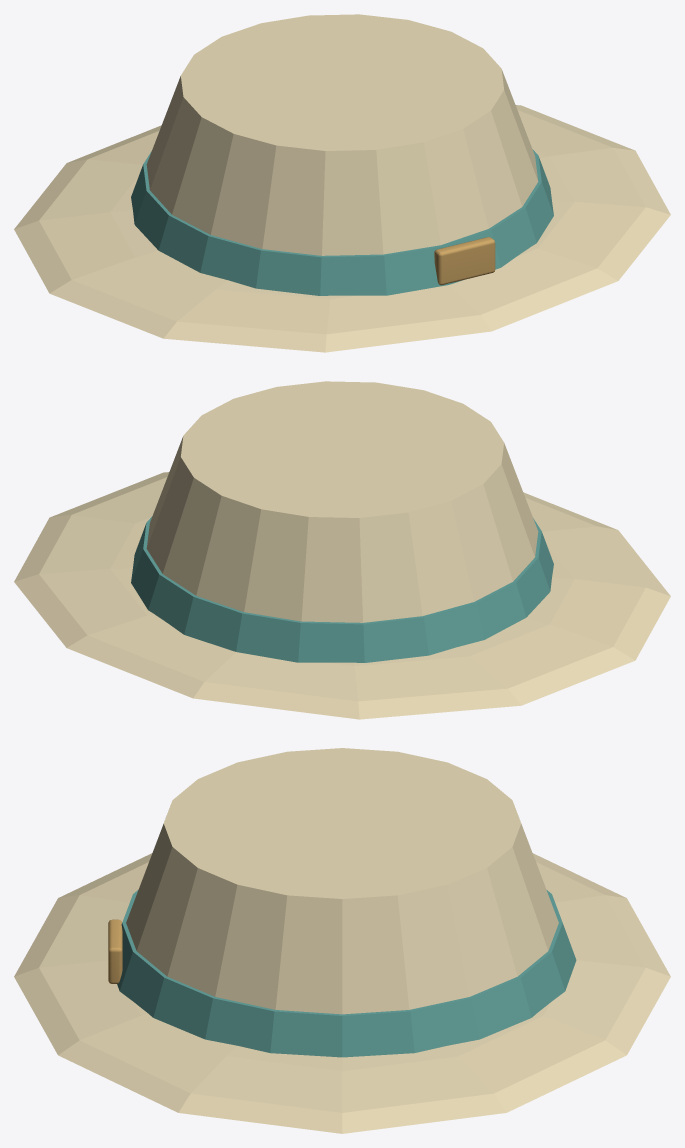
File: angler_hat.glb
3 renders of one model, top to bottom at view 1: azimuth 30°, elevation 25°; view 2: azimuth 150°, elevation 25°; view 3: azimuth 270°, elevation 25°, orthographic. The views are drawn at different scales.
Visible parts, largest first — view 1: Crown, Soft_brim, Hatband, Band_buckle; view 2: Crown, Soft_brim, Hatband; view 3: Crown, Soft_brim, Hatband, Band_buckle.
Part boxes in pixels (x1,y1,x2,y2): Crown: (146, 14, 538, 255); Soft_brim: (14, 105, 670, 352); Hatband: (131, 149, 553, 295); Band_buckle: (434, 237, 495, 285); Crown: (146, 381, 538, 622); Soft_brim: (14, 472, 670, 719); Hatband: (131, 516, 553, 662); Crown: (126, 748, 558, 1014); Soft_brim: (14, 853, 670, 1133); Hatband: (117, 890, 576, 1057); Band_buckle: (108, 919, 122, 983).
Bounding box in the file's own units: 0.77 × 0.202 × 0.68.
